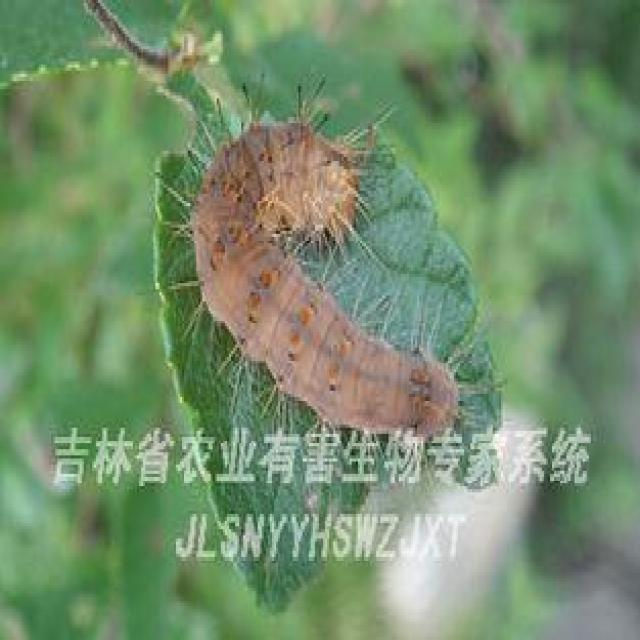BeetArmyWorm-Larva-: (184, 117, 453, 439)
